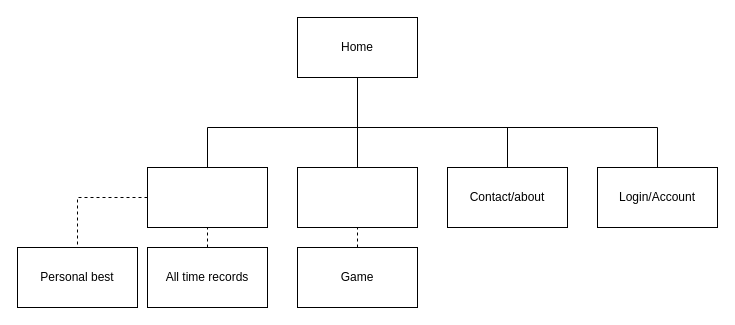
Image size: 735x325. Some labels were removed from this diagram. The centre of each missing label's shape, as x and y in pixels:
Game mode: [357,197]
Scoreboard: [207,197]
